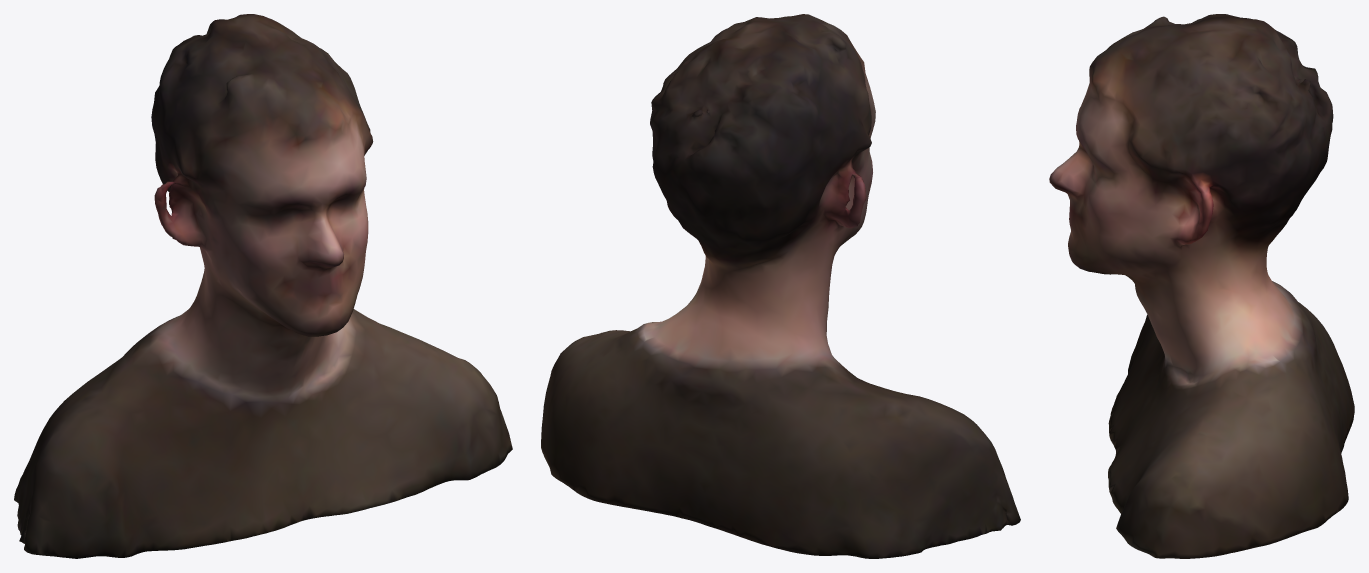
Rendered from TEXTURED_Griffis_Matthew.obj.
3 renders of one model, left to right at view 1: azimuth 30°, elevation 25°; view 2: azimuth 150°, elevation 25°; view 3: azimuth 270°, elevation 25°, orthographic. The views are drawn at different scales.
Bounding box in the file's own units: 47.34 × 43.09 × 27.84.
